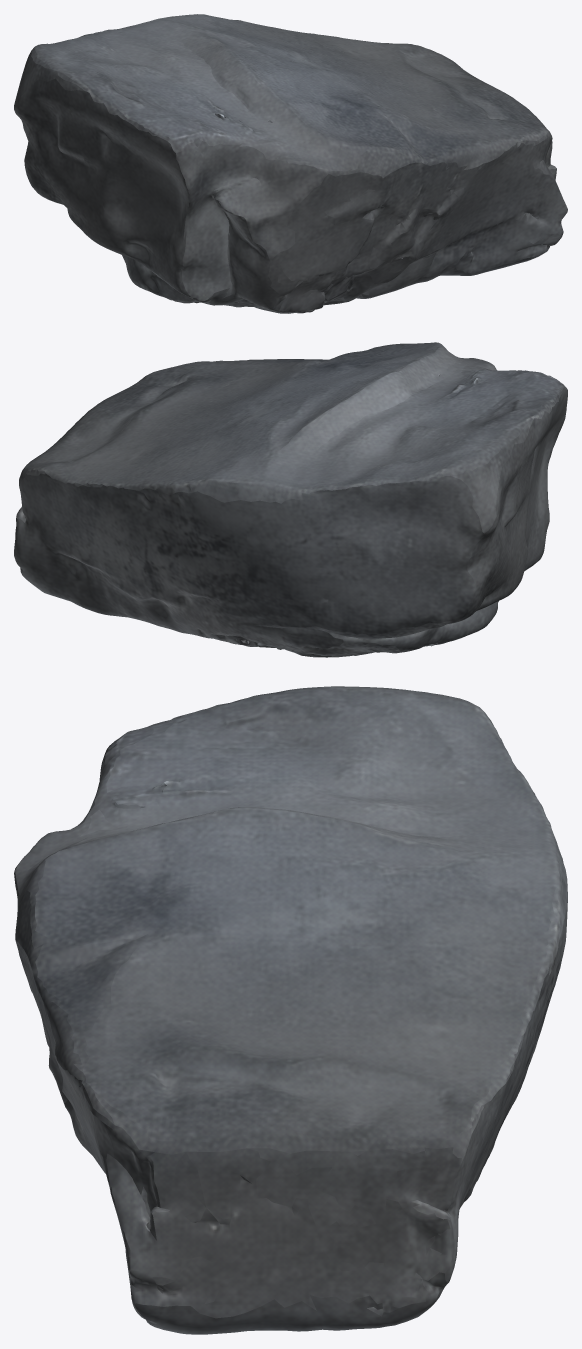
3 views of the same model, one above another, from view 1: azimuth 30°, elevation 25°; view 2: azimuth 150°, elevation 25°; view 3: azimuth 270°, elevation 25° (orthographic). The views are drawn at different scales.
Parts seen in each view (by area): view 1: world; view 2: world; view 3: world.
Boxes of the visible parts, x1=… form: world: x1=14, y1=14, x2=567, y2=313; world: x1=14, y1=342, x2=567, y2=657; world: x1=14, y1=686, x2=567, y2=1334.
Bounding box in the file's own units: 3 × 1.53 × 2.18.
Materials: 1 (1 with a texture image).
